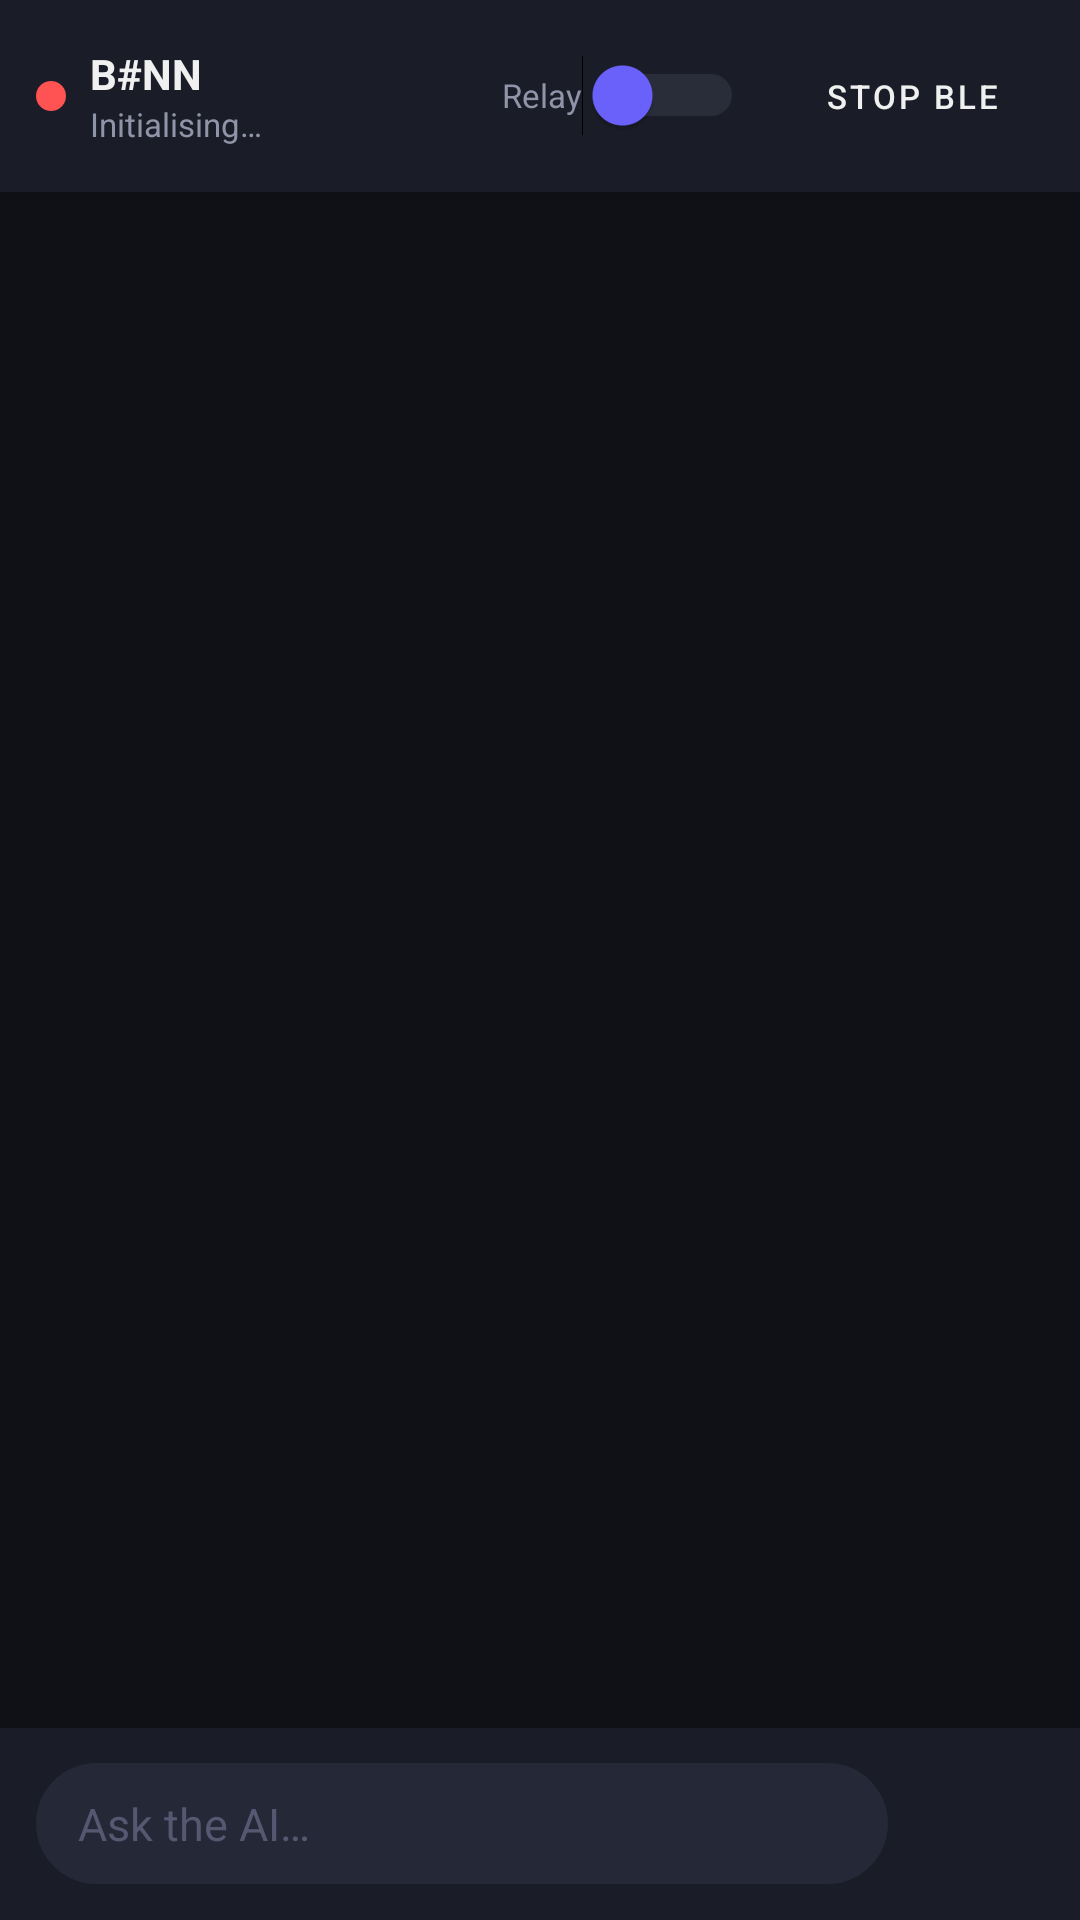

Icon click points for this 1080×1920 phone screenshot, format point (x, y):
dot disconnected: point (51, 96)
